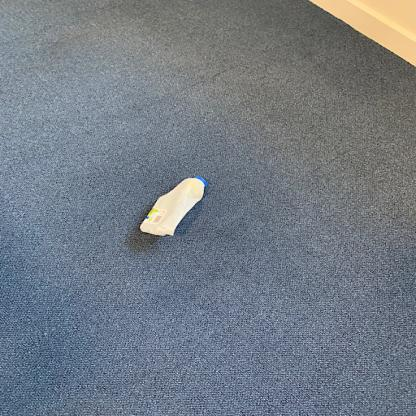trash: (140, 176, 209, 240)
